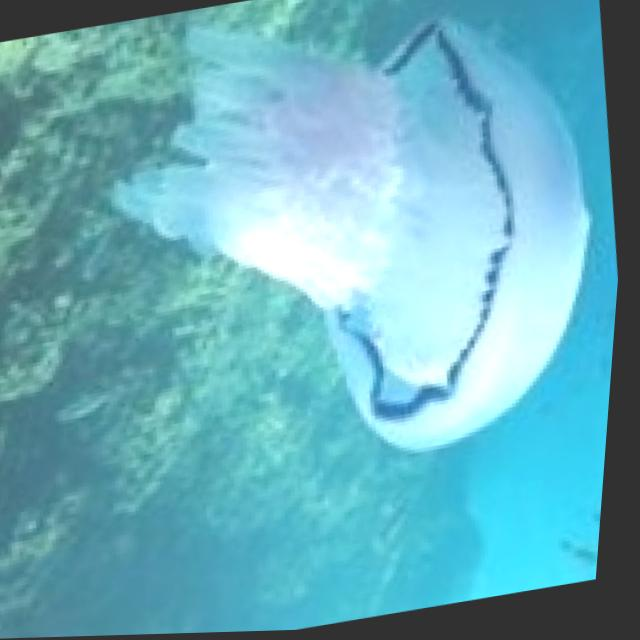Box-jellyfish: (72, 0, 640, 506)
